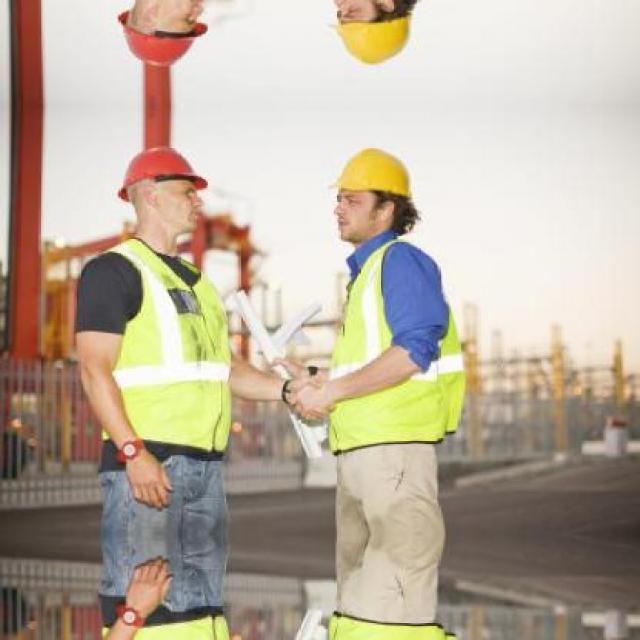Reflective-Jacket: (66, 239, 243, 470), (308, 235, 483, 464)
Safety-Helmet: (320, 139, 431, 219), (103, 137, 220, 210)
